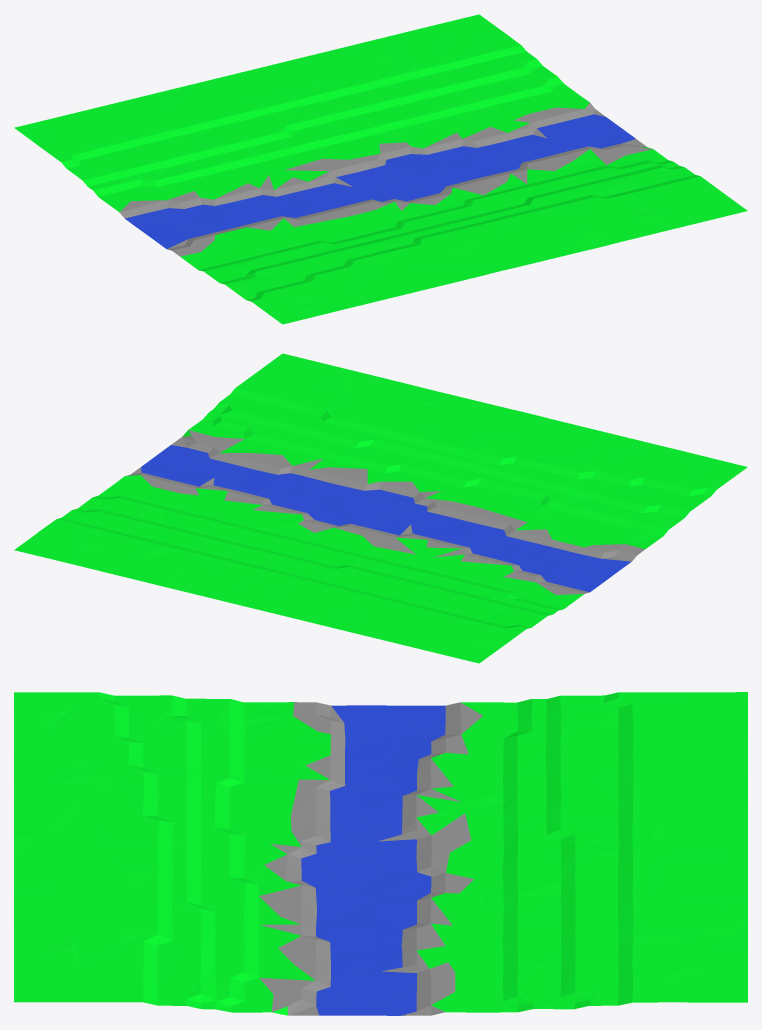
The model's file is terrain_scaled.fbx.
The picture shows the model from 3 angles, top to bottom: view 1: azimuth 30°, elevation 25°; view 2: azimuth 150°, elevation 25°; view 3: azimuth 270°, elevation 25°; orthographic projection. The views are drawn at different scales.
Visible parts, largest first — view 1: Plane; view 2: Plane; view 3: Plane.
Part boxes in pixels (box(x1,y1,x2,y2)): Plane: box(14, 14, 747, 324); Plane: box(14, 353, 747, 663); Plane: box(14, 692, 747, 1015).
Bounding box in the file's own units: 6013 × 126 × 6013.
